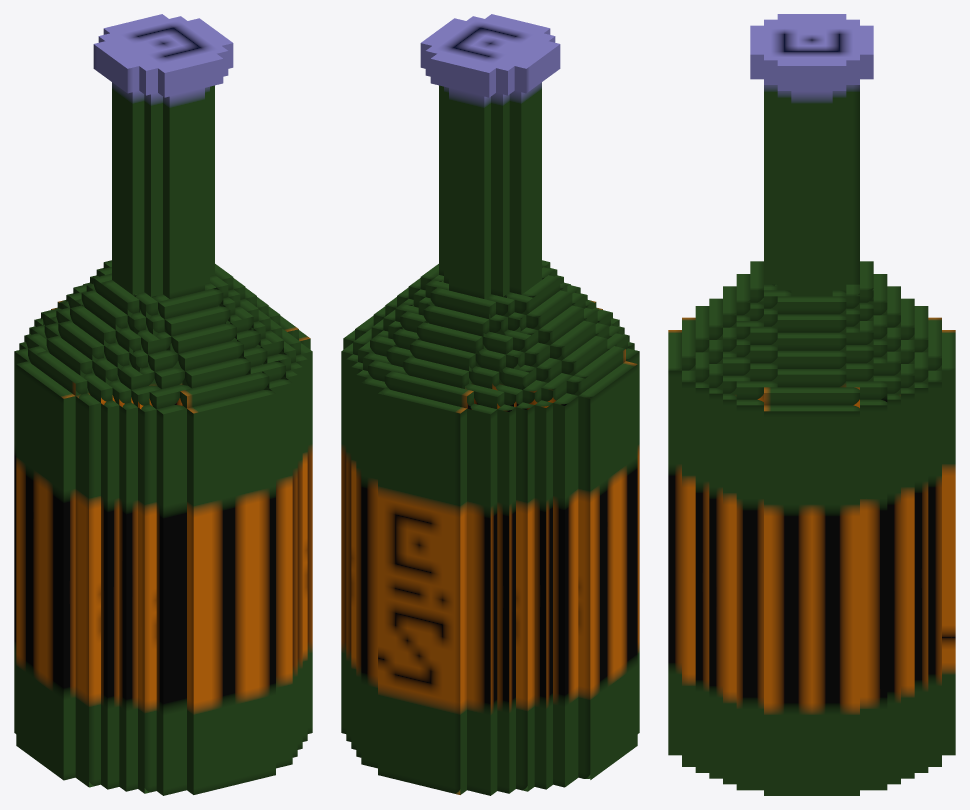
The model's file is Butelka_grog.dae.
3 views of the same model, side by side, from view 1: azimuth 30°, elevation 25°; view 2: azimuth 150°, elevation 25°; view 3: azimuth 270°, elevation 25° (orthographic).
Visible parts, largest first — view 1: Content; view 2: Content; view 3: Content.
Boxes of the visible parts, left/top/right/bottom form: Content: left=14, top=14, right=312, bottom=795; Content: left=341, top=14, right=639, bottom=795; Content: left=668, top=14, right=955, bottom=795.
Bounding box in the file's own units: 21 × 56 × 21.
1 material, 1 textured.
